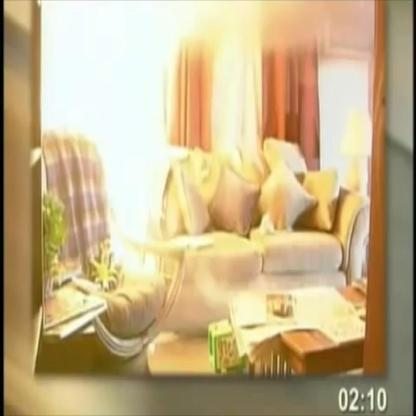fire: (94, 18, 167, 286)
